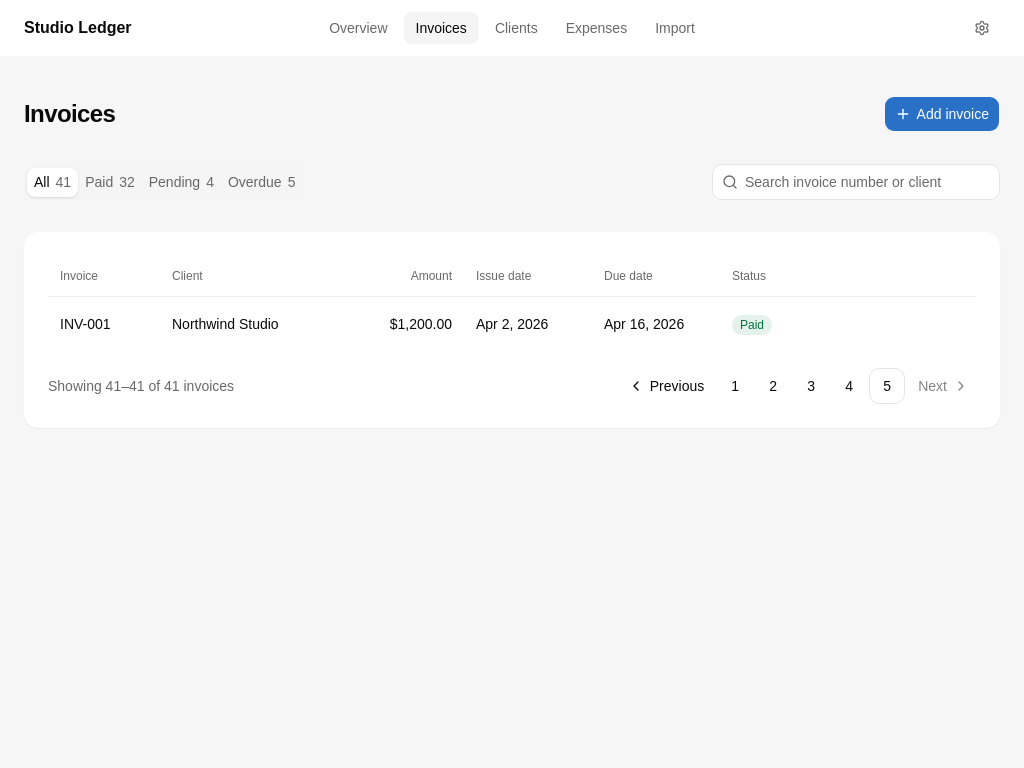
Test: Invoices › opens a row in the side panel and sets a paid invoice back
Step 1. Click the link "INV-001" → coordinates (85, 324), box [60,316,111,332]
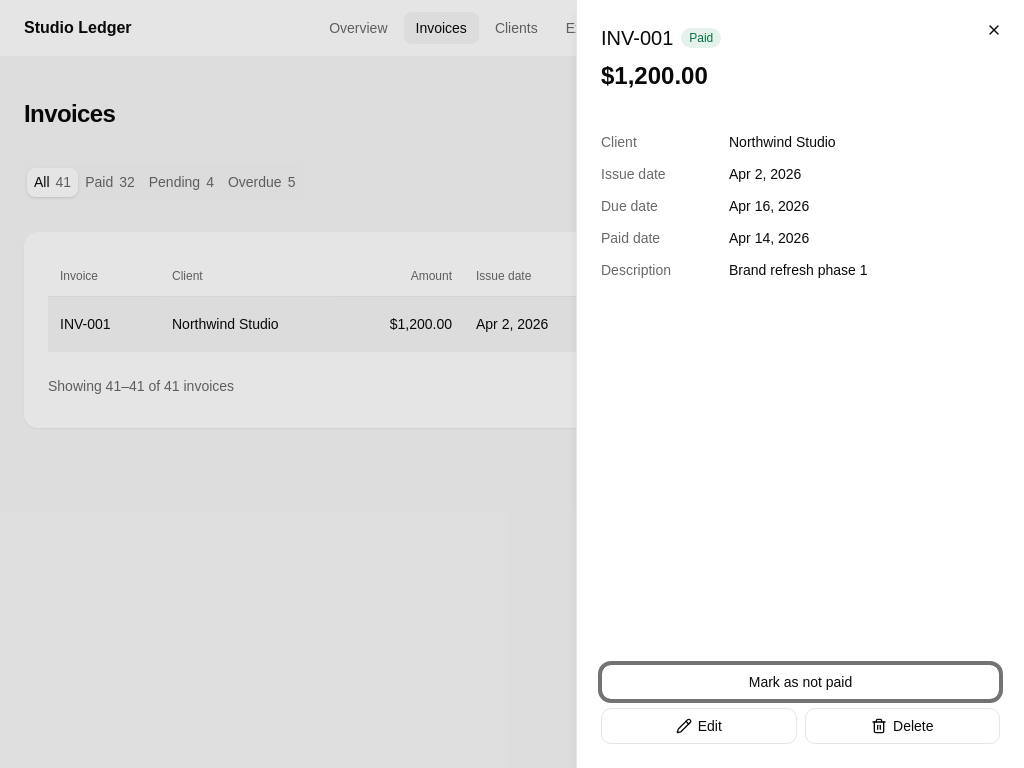
Check: the text "Apr 14, 2026" is shown, box [729,230,809,246]
Step 2. Click the button "Mark as not paid" → coordinates (800, 682), box [601,664,1000,700]
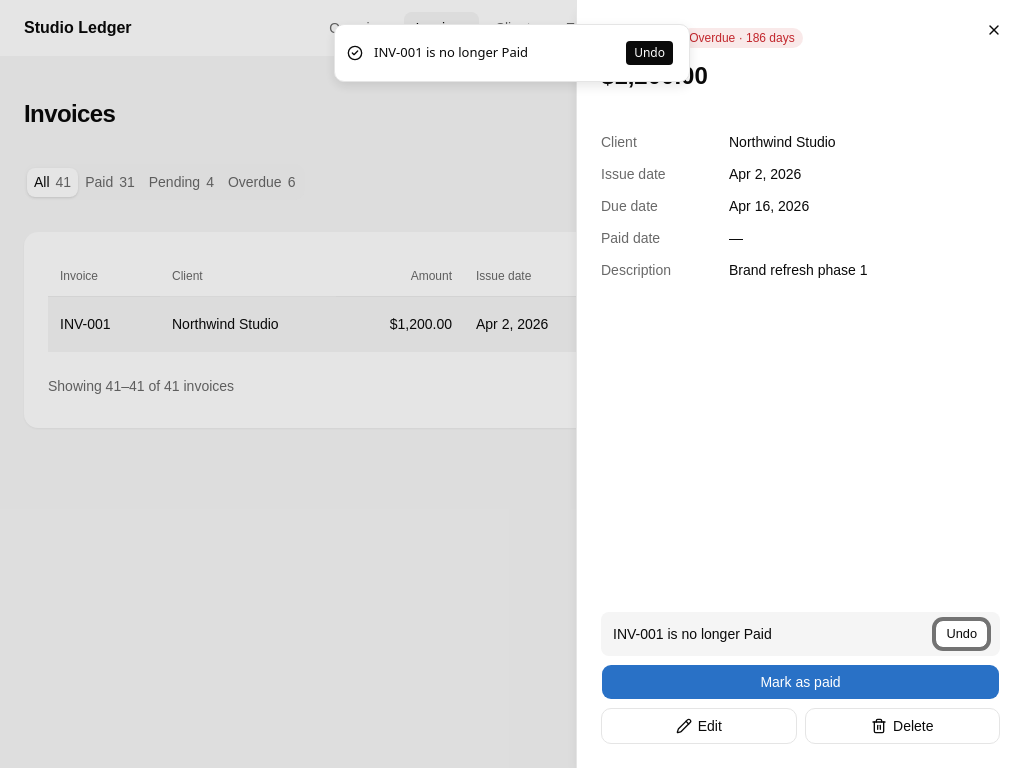
Check: the text "Overdue · 186 days" is shown, box [681,28,803,48]
Check: the button "Mark as paid" is shown, box [601,664,1000,700]
